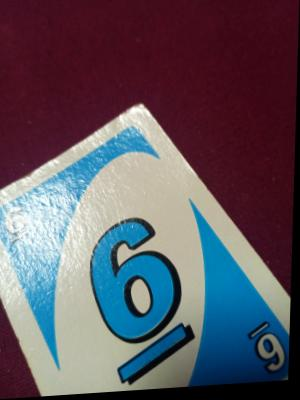blue: (0, 188, 257, 382)
